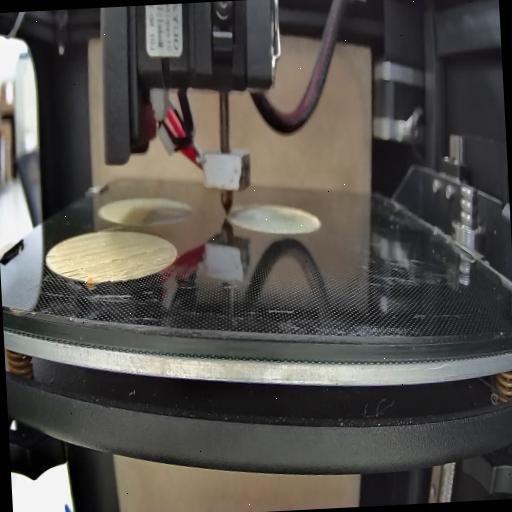under_extrusion: (61, 266, 93, 284), (106, 252, 146, 265), (152, 259, 172, 273), (96, 270, 112, 279)
